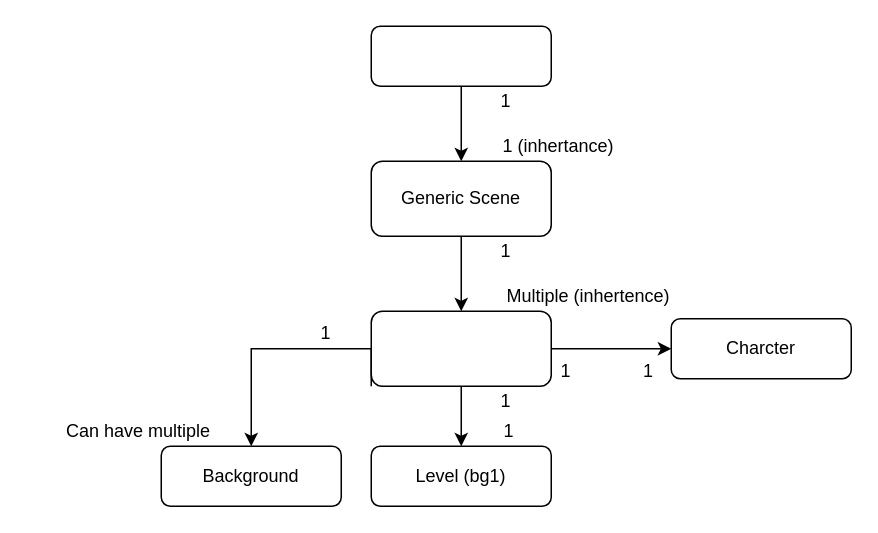
Some shapes in this 878 by 533 pixel diagram are drawn without their labels. The centre of each missing label's shape, as x and y in pixels:
Scene (engine): (x=460, y=55)
Scenes: (x=460, y=348)
